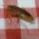cockroach: (8, 4, 34, 24)
